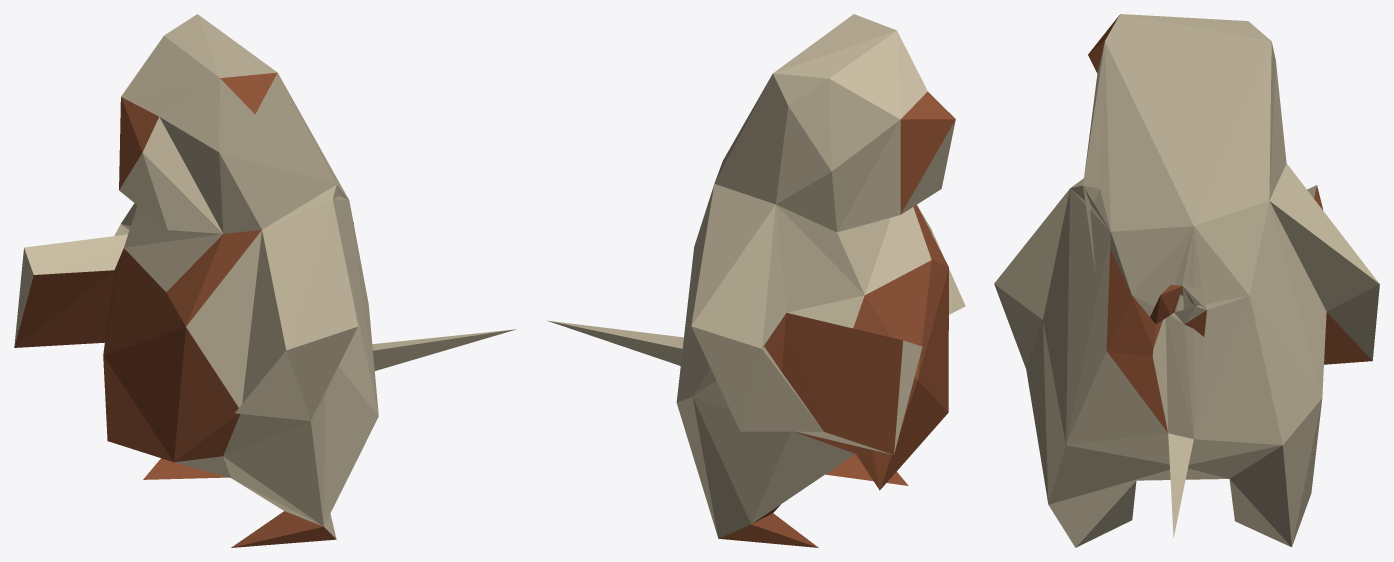
3 renders of one model, left to right at view 1: azimuth 30°, elevation 25°; view 2: azimuth 150°, elevation 25°; view 3: azimuth 270°, elevation 25°, orthographic. The views are drawn at different scales.
Parts seen in each view (by area): view 1: lion-200; view 2: lion-200; view 3: lion-200.
Part boxes in pixels (x1,y1,x2,y2): lion-200: (14, 14, 516, 547); lion-200: (547, 14, 965, 547); lion-200: (994, 14, 1379, 547).
Size of the model in its own units: 0.8473 by 0.8845 by 0.6366.
